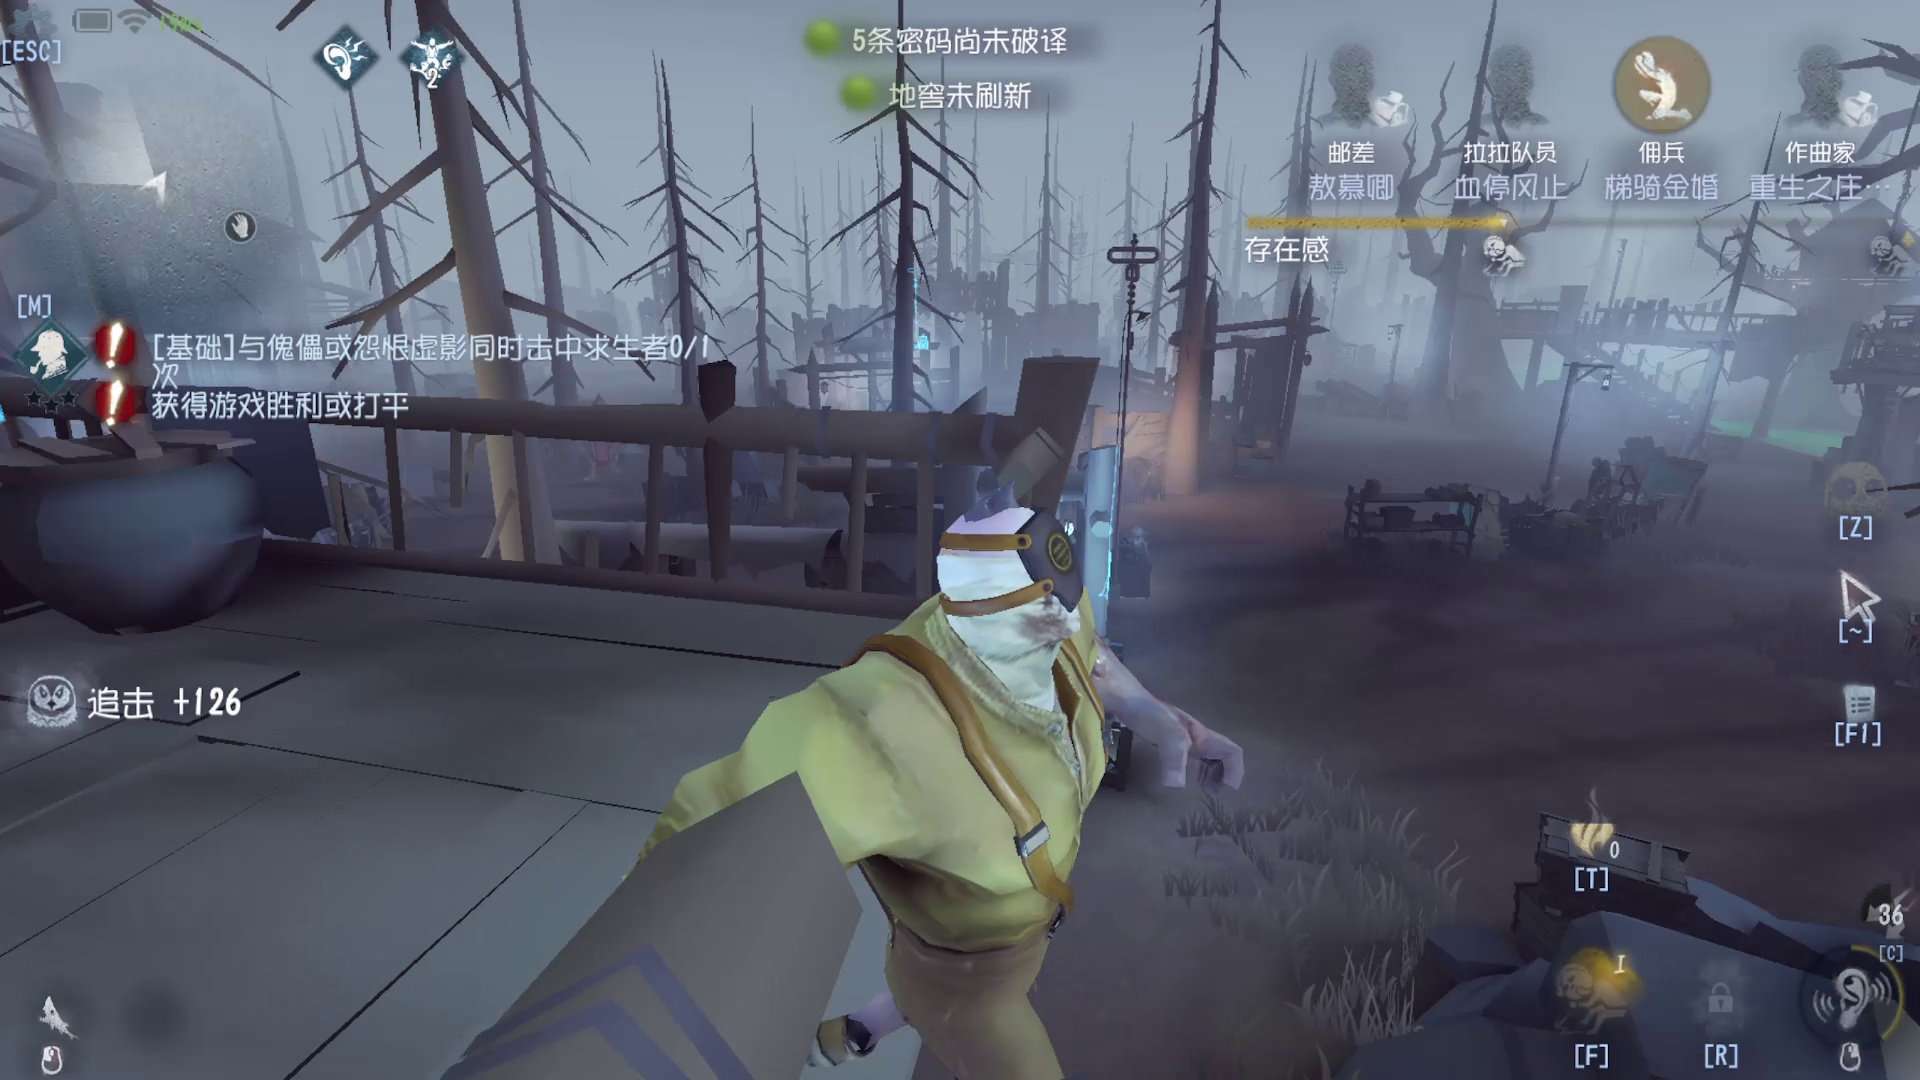密码机: (885, 237, 978, 418)
木板: (1630, 434, 1710, 533)
狂欢之椅: (574, 382, 632, 481)
